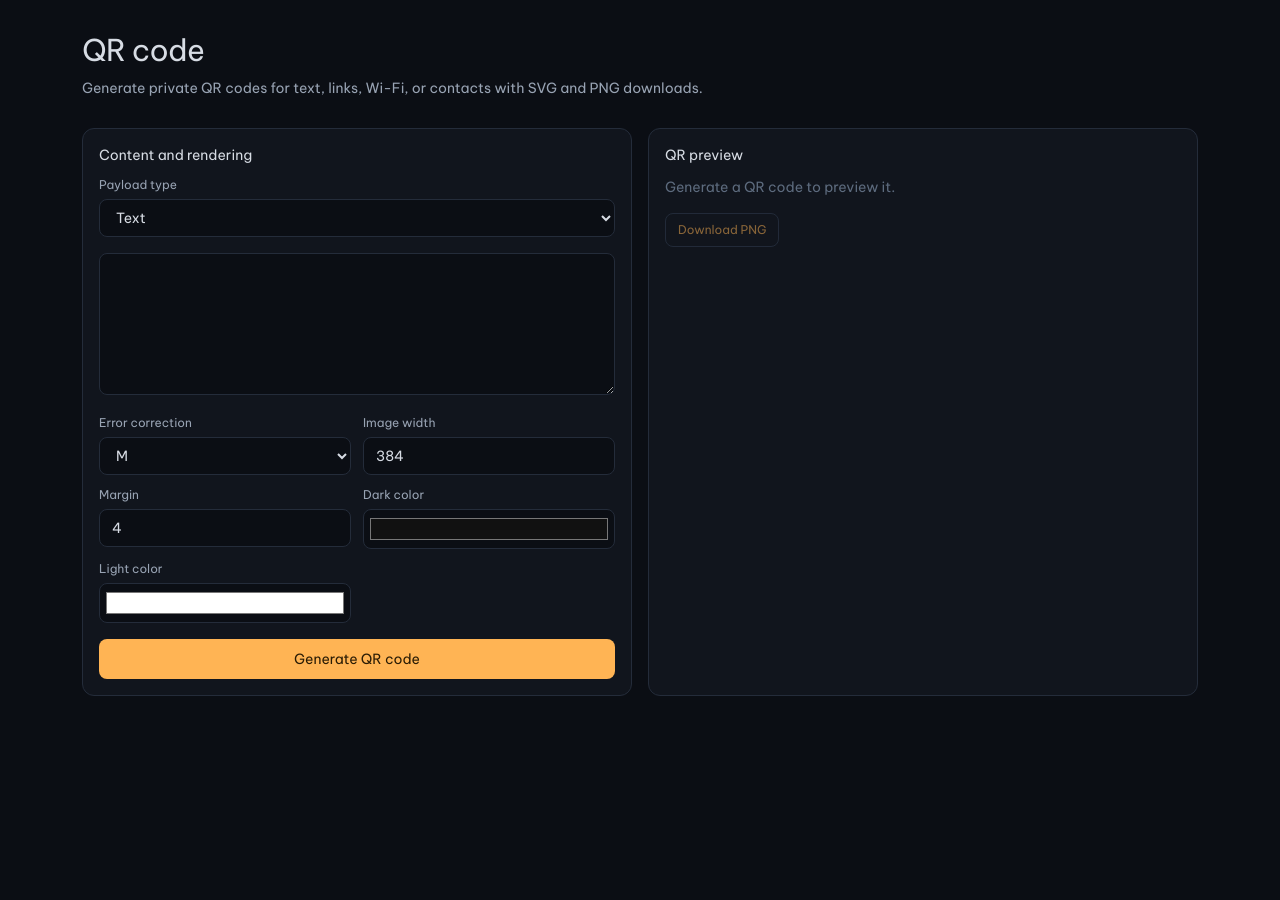
QR Code tool › builds Wi-Fi payloads and announces invalid secured networks
Step 1. Select "Wi-Fi" in the dropdown labelled "Payload type" → (357, 218), box [99,199,615,237]
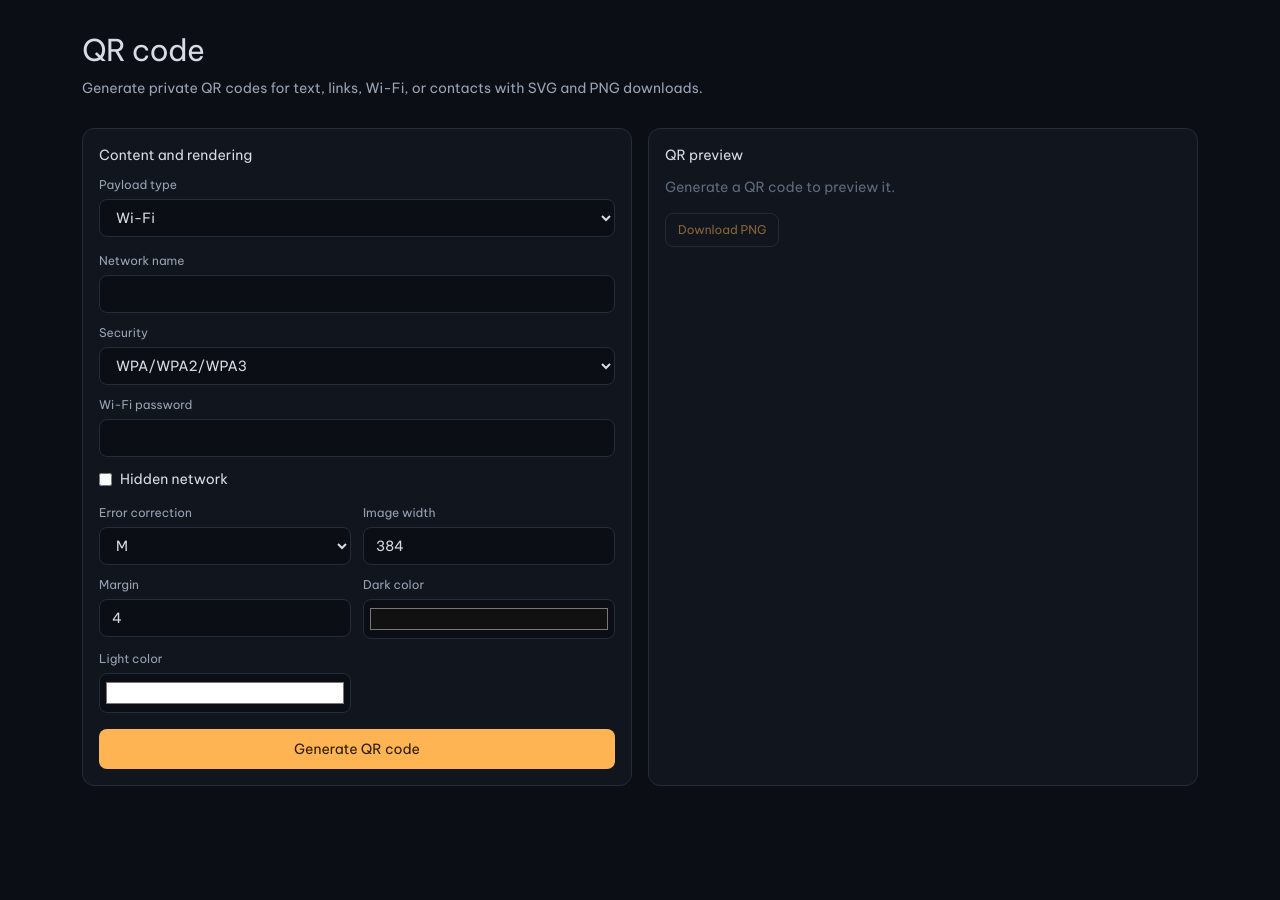
Step 2. Type "Guest" into the field labelled "Network name" → (357, 294), box [99,275,615,313]
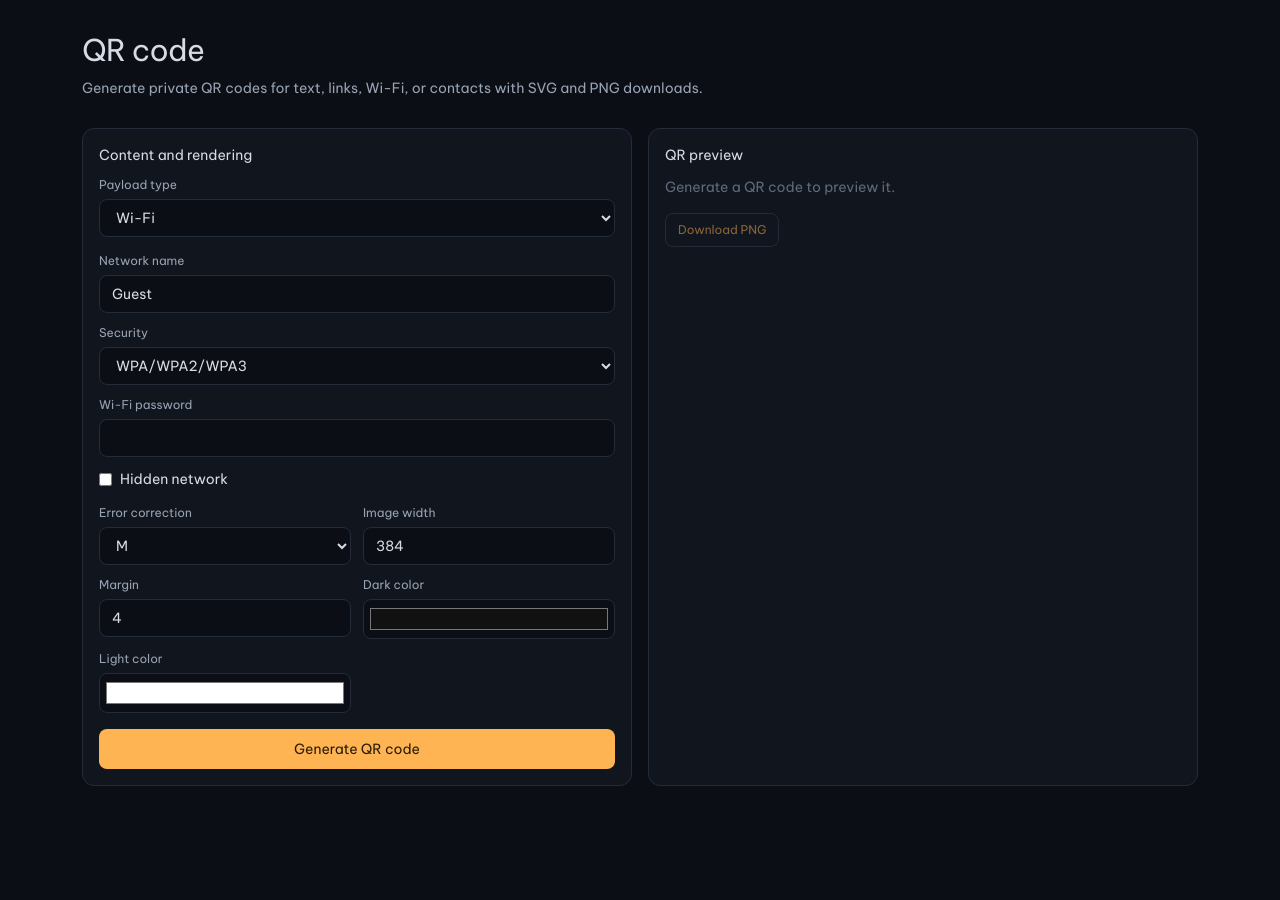
Step 3. Click the button "Generate QR code" → (357, 749), box [99,729,615,769]
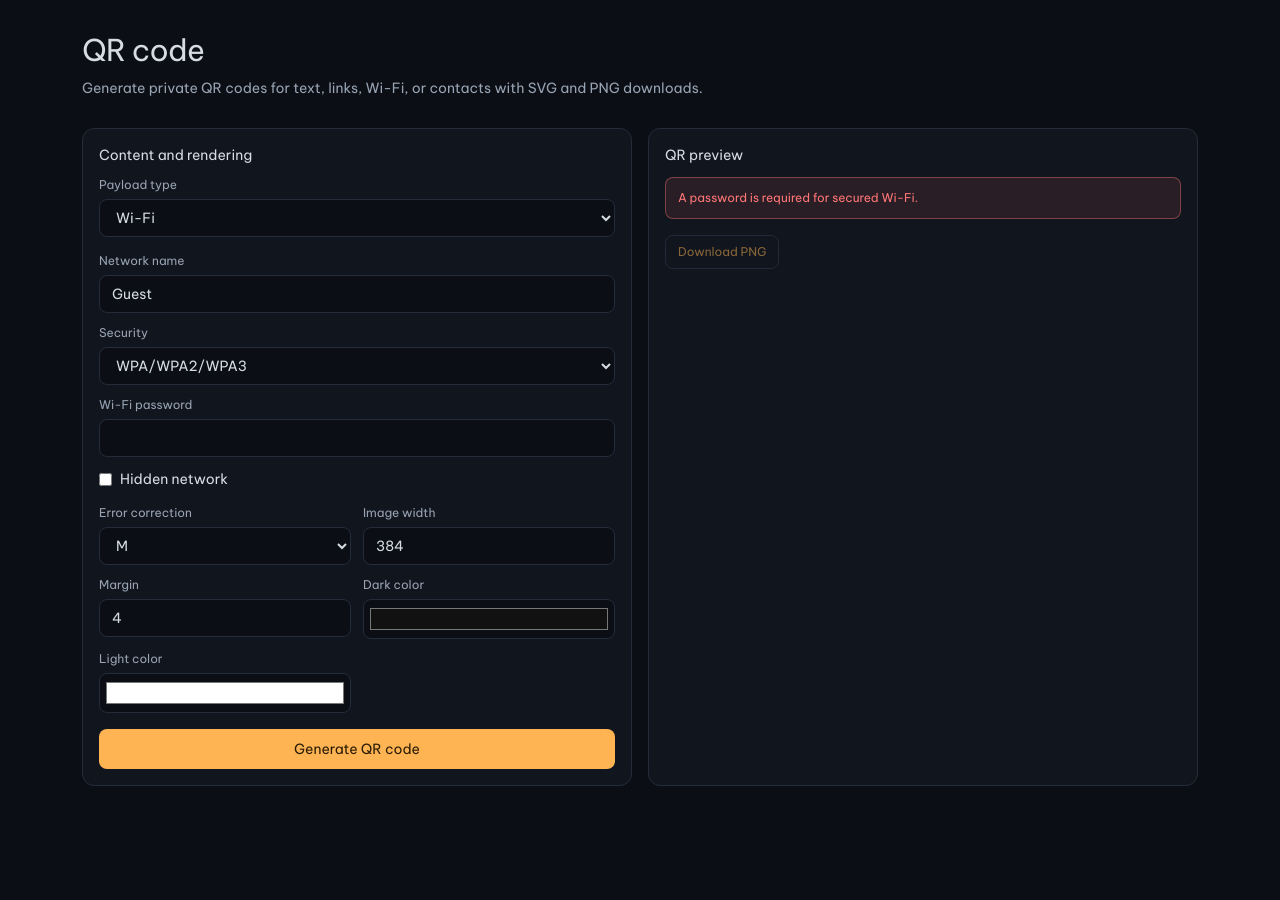
Check: the message "A password is required for secured Wi-Fi." is shown, box [665,177,1181,219]
